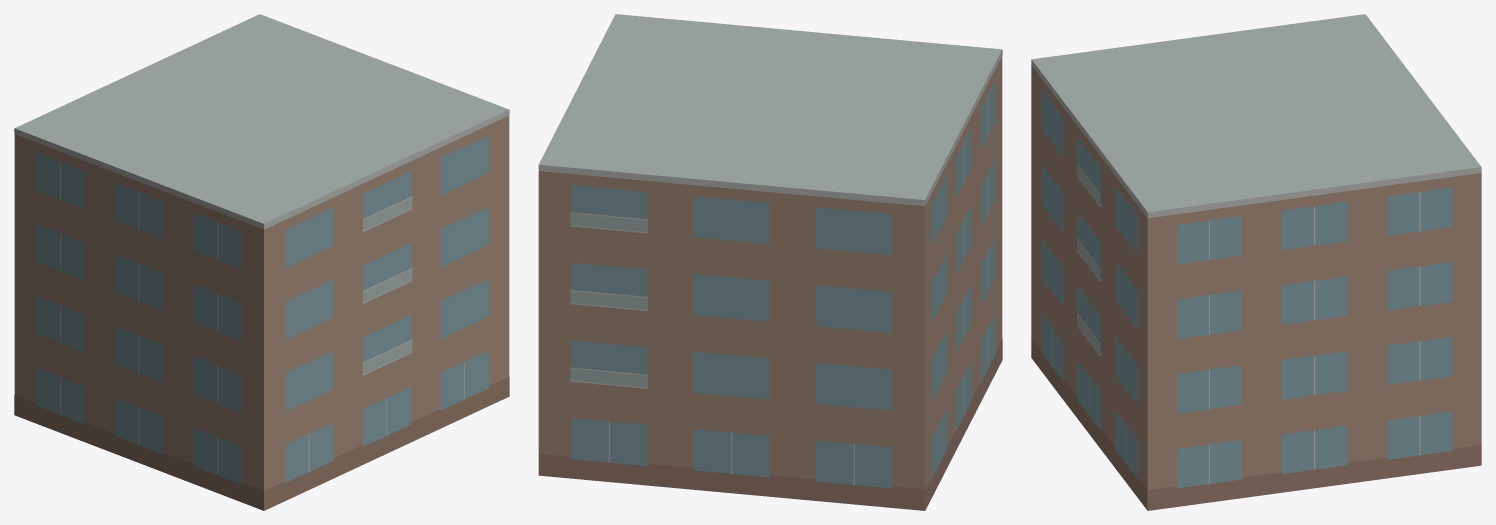
The model's file is residential-f4809126-30f5-46fe-a039-64987f524e87.glb.
The picture shows the model from 3 angles, left to right: view 1: azimuth 30°, elevation 25°; view 2: azimuth 150°, elevation 25°; view 3: azimuth 270°, elevation 25°; orthographic projection. The views are drawn at different scales.
Visible parts, largest first — view 1: residential-f4809126-30f5-46fe-a039-64987f524e87.tmp; view 2: residential-f4809126-30f5-46fe-a039-64987f524e87.tmp; view 3: residential-f4809126-30f5-46fe-a039-64987f524e87.tmp.
Part boxes in pixels (x1=…): residential-f4809126-30f5-46fe-a039-64987f524e87.tmp: x1=14, y1=14, x2=509, y2=510; residential-f4809126-30f5-46fe-a039-64987f524e87.tmp: x1=538, y1=14, x2=1002, y2=510; residential-f4809126-30f5-46fe-a039-64987f524e87.tmp: x1=1031, y1=14, x2=1481, y2=510.
Bounding box in the file's own units: 17.38 × 12.2 × 16.68.
